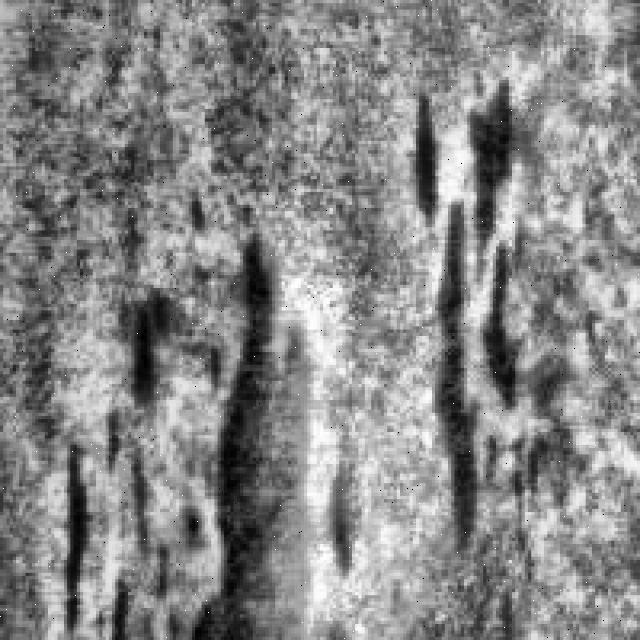Patches: (409, 70, 576, 541), (202, 218, 372, 630), (60, 390, 212, 628), (122, 272, 188, 416)
